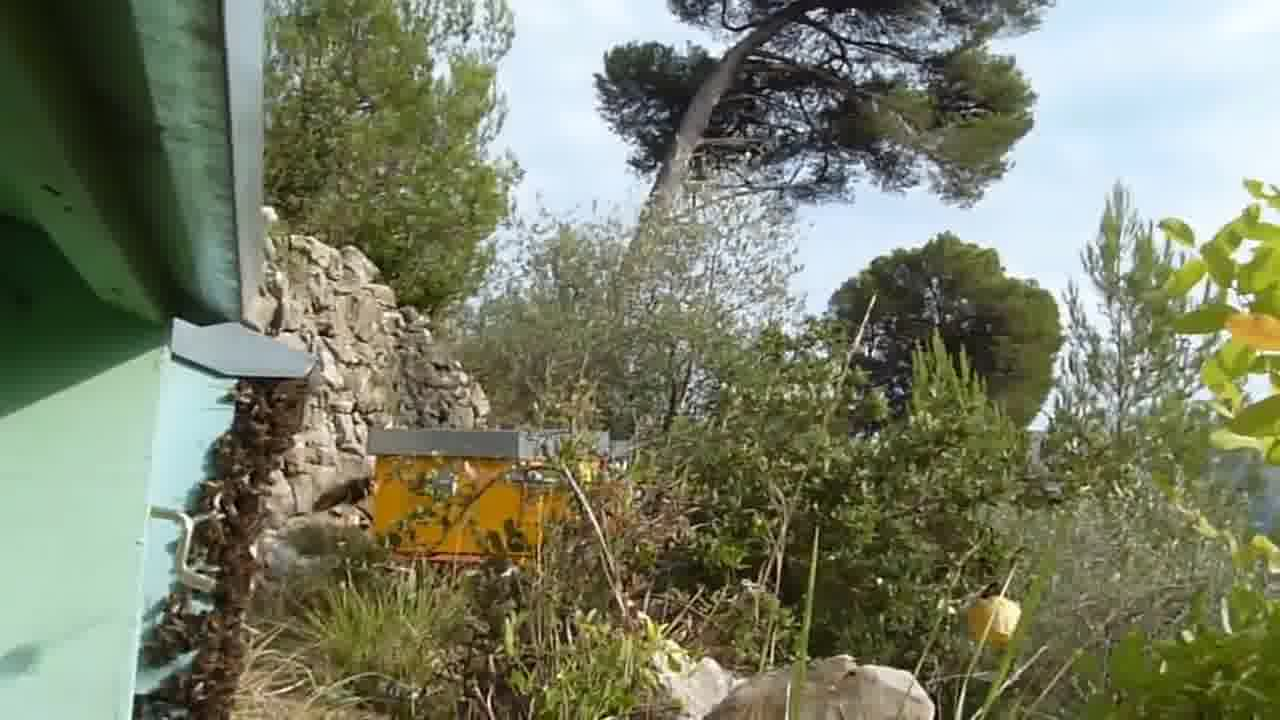bee: (160, 600, 251, 698), (219, 376, 307, 455), (200, 463, 278, 534)
hornet: (314, 467, 381, 520)
